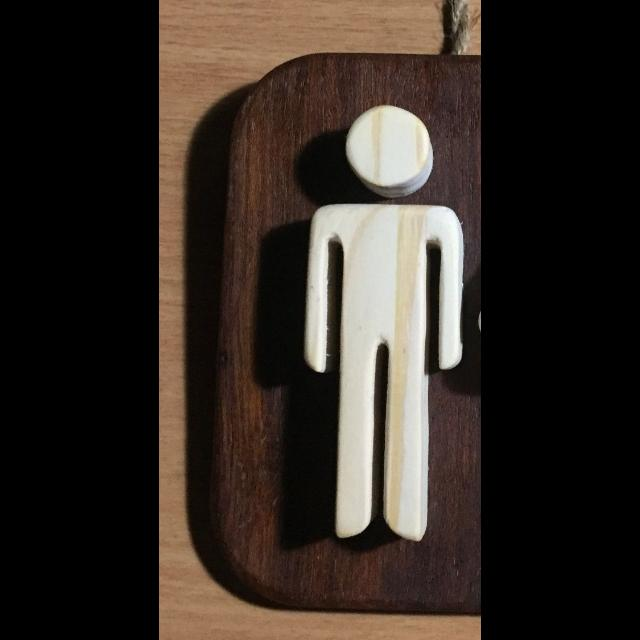mens_restroom: (212, 54, 481, 613)
